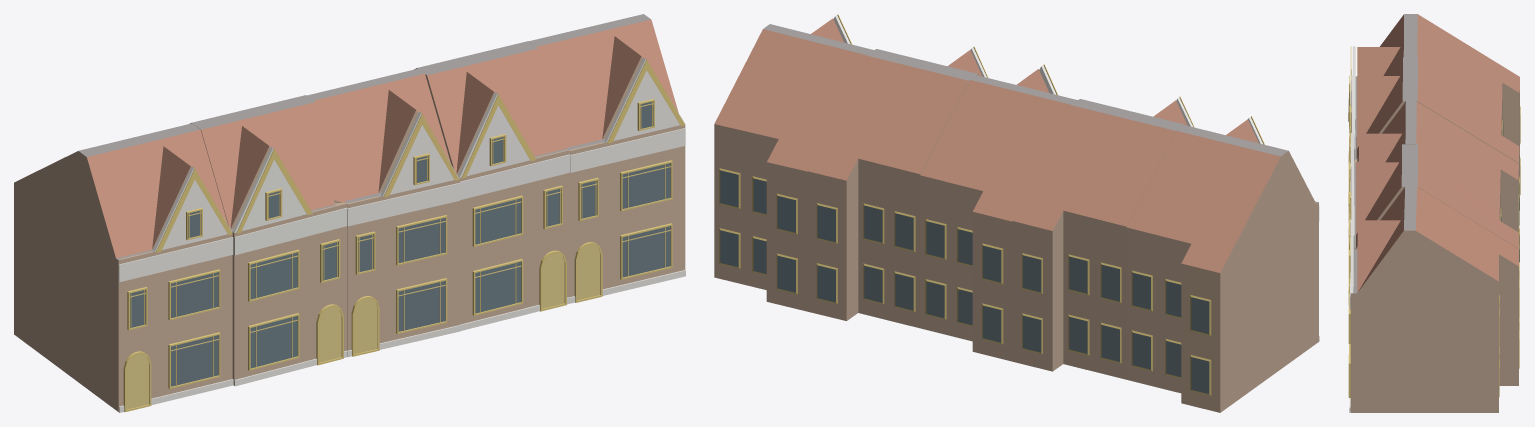
File: chunk-face-zaanhof-125-134.glb
The picture shows the model from 3 angles, left to right: view 1: azimuth 30°, elevation 25°; view 2: azimuth 150°, elevation 25°; view 3: azimuth 270°, elevation 25°; orthographic projection. The views are drawn at different scales.
Parts seen in each view (by area): view 1: face-zaanhof-125-134; view 2: face-zaanhof-125-134; view 3: face-zaanhof-125-134.
Part boxes in pixels (left/top/right/bottom): face-zaanhof-125-134: left=14, top=14, right=685, bottom=412; face-zaanhof-125-134: left=714, top=14, right=1319, bottom=412; face-zaanhof-125-134: left=1348, top=14, right=1520, bottom=412.
Size of the model in its own units: 29.85 by 11.7 by 10.02.
